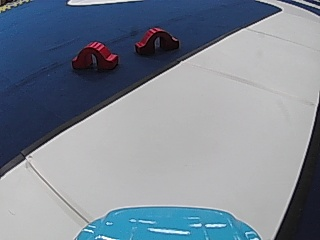bridge: (71, 38, 118, 71), (134, 24, 179, 55)
